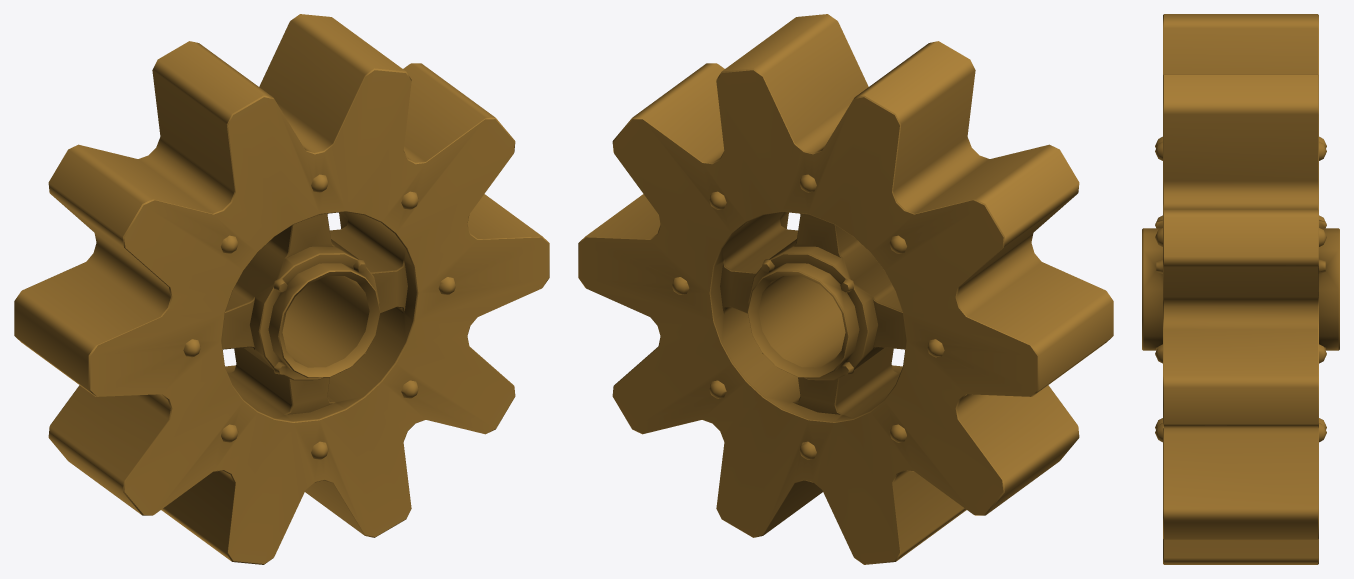
File: gear_spur_10_m1.glb
The picture shows the model from 3 angles, left to right: view 1: azimuth 30°, elevation 25°; view 2: azimuth 150°, elevation 25°; view 3: azimuth 270°, elevation 25°; orthographic projection. The views are drawn at different scales.
Visible parts, largest first — view 1: GearSpur10_M1; view 2: GearSpur10_M1; view 3: GearSpur10_M1.
Part boxes in pixels (box(x1,y1,x2,y2)): GearSpur10_M1: box(14, 14, 549, 564); GearSpur10_M1: box(578, 14, 1113, 564); GearSpur10_M1: box(1142, 14, 1339, 564).
Size of the model in its own units: 0.0423 by 0.0412 by 0.0152.
